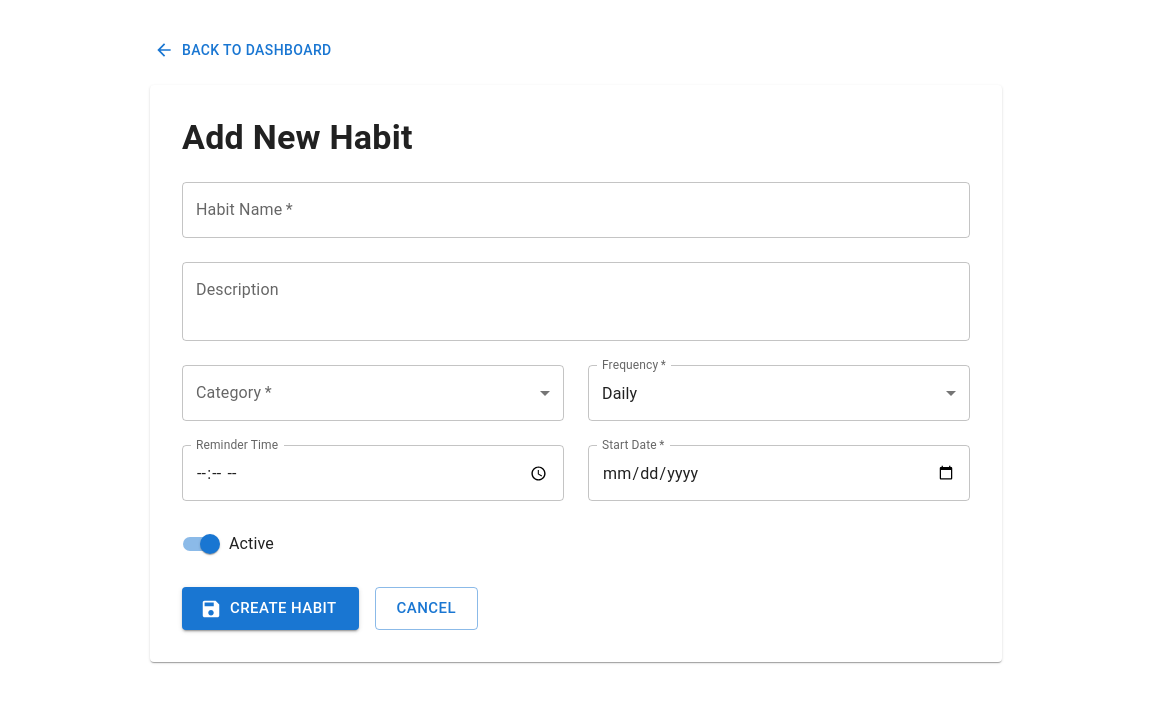
Test: HabitForm › shows validation errors on empty submit
Click the button "Create Habit": (270, 609) [182, 588, 359, 630]
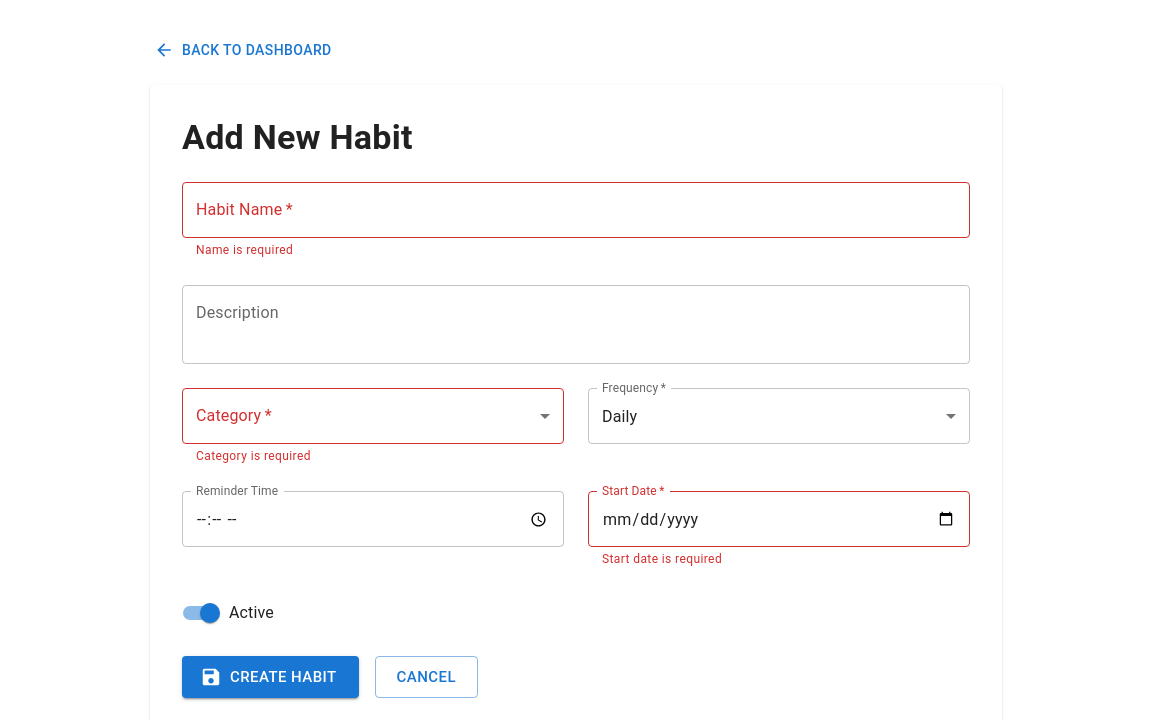
Result: the text "Name is required" is shown at [196, 244, 293, 258]
